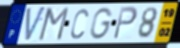8: (137, 7, 159, 40)
C: (69, 8, 89, 41)
G: (89, 7, 114, 40)
M: (36, 7, 71, 42)
P: (112, 5, 139, 41)
V: (24, 5, 47, 44)
